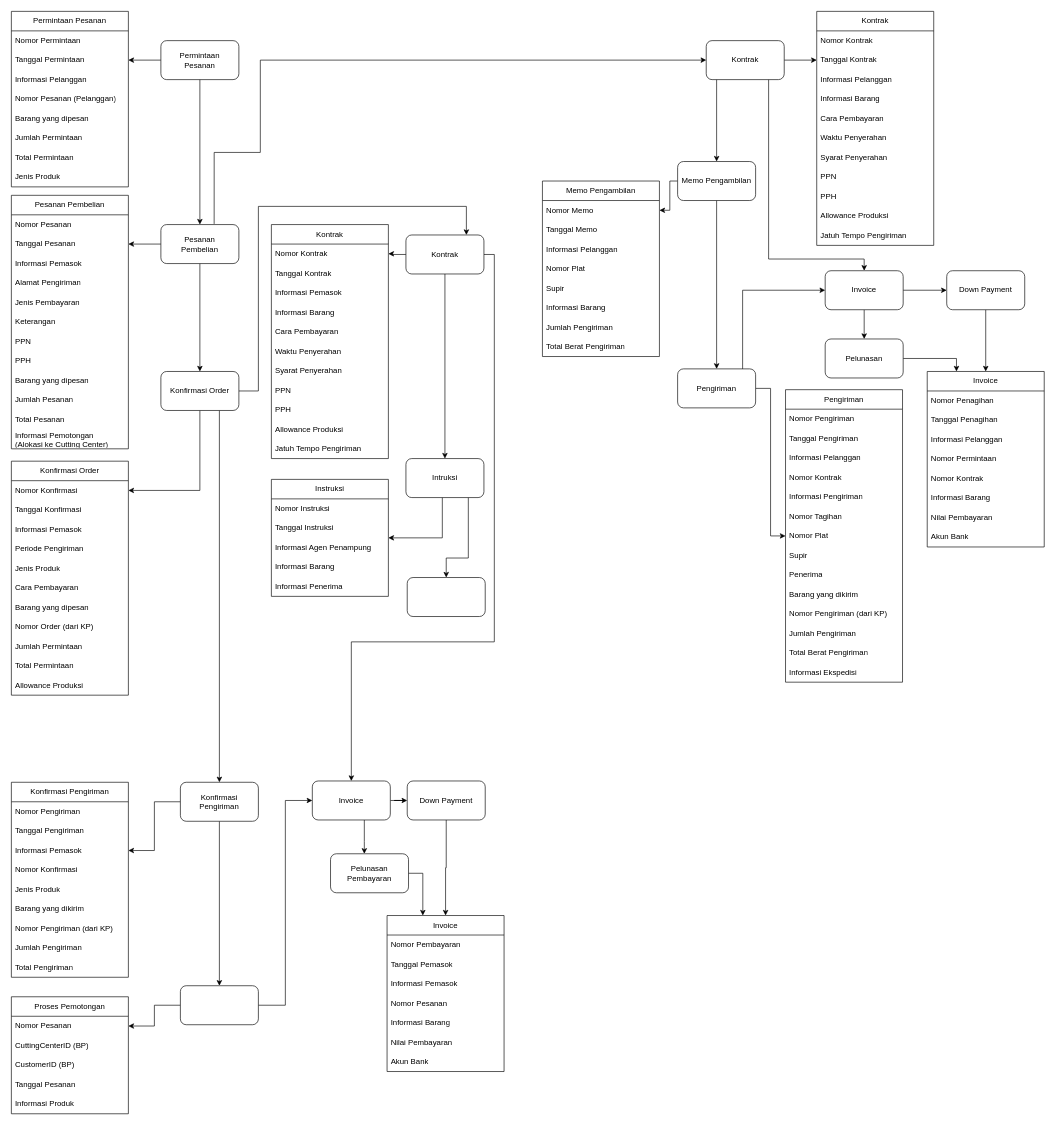
Some shapes in this 1056 by 1125 pixel diagram are drawn without their labels. The shapes that lost their labels are listed below. From the top down, each one's centre as x and y in pixels, then its label:
At [446,597]: "Pencairan Dana".
At [219,1005]: "Proses Pemotongan (SPK)".
